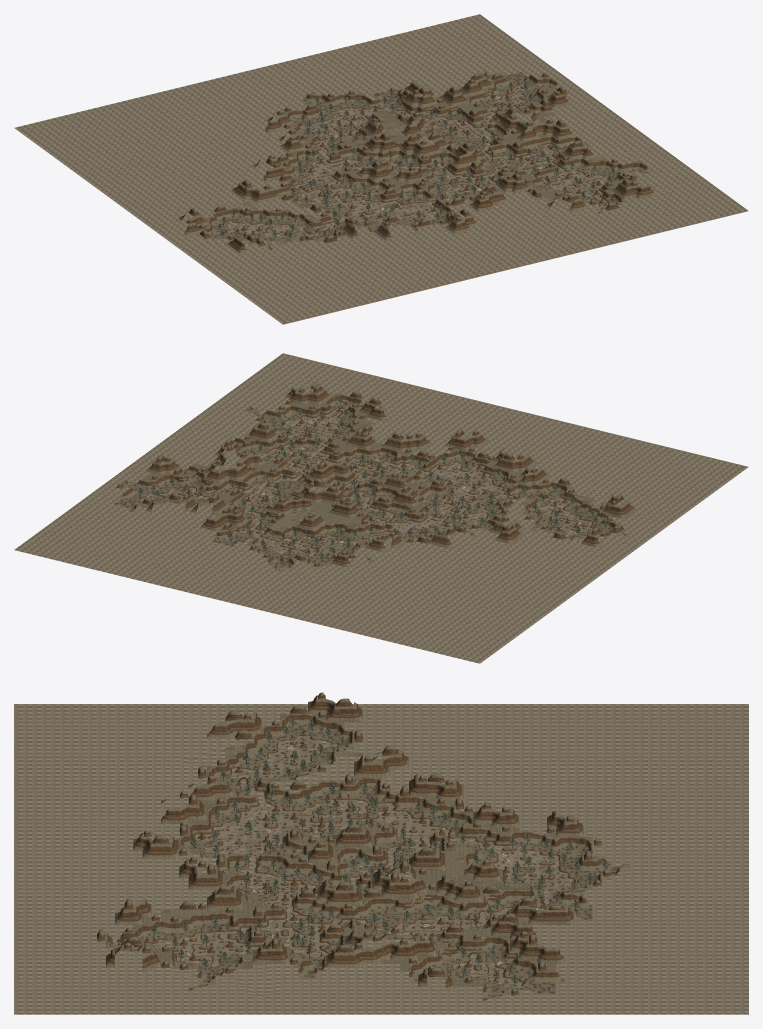
The model's file is map_F05_03.glb.
3 renders of one model, top to bottom at view 1: azimuth 30°, elevation 25°; view 2: azimuth 150°, elevation 25°; view 3: azimuth 270°, elevation 25°, orthographic. The views are drawn at different scales.
Parts seen in each view (by area): view 1: default_ground; view 2: default_ground; view 3: default_ground.
Part boxes in pixels (x1,y1,x2,y2): default_ground: (14,14,748,324); default_ground: (14,353,748,663); default_ground: (14,704,748,1014).
Size of the model in its own units: 1920 by 91.29 by 1920.
Materials: 221 (221 with a texture image).
